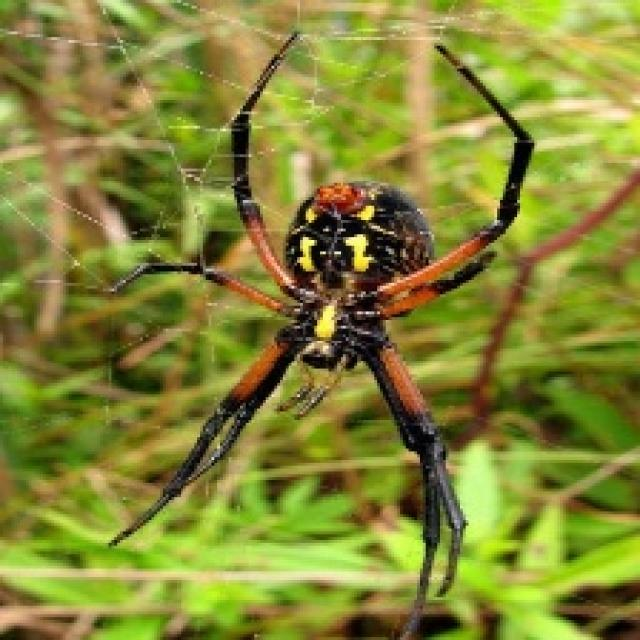Non venomous spider: (146, 99, 524, 523)
